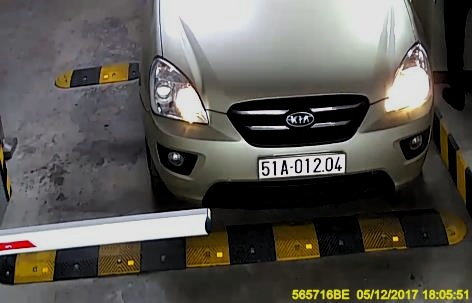plate: (255, 148, 346, 179)
